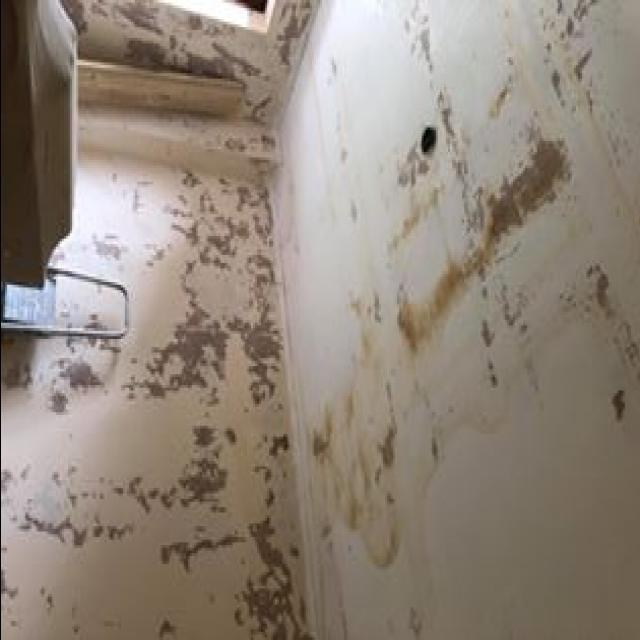wall_stain: (0, 462, 171, 544), (244, 424, 304, 640), (170, 162, 278, 275), (123, 274, 223, 396), (8, 354, 119, 414), (231, 281, 285, 402), (173, 410, 234, 513), (156, 532, 242, 574), (148, 612, 181, 640), (2, 563, 19, 601)
